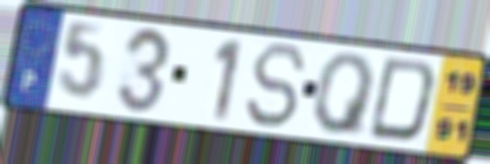1: (212, 37, 246, 124)
3: (115, 25, 172, 117)
5: (57, 17, 109, 109)
D: (364, 55, 440, 146)
Q: (311, 51, 379, 139)
S: (243, 41, 310, 131)
